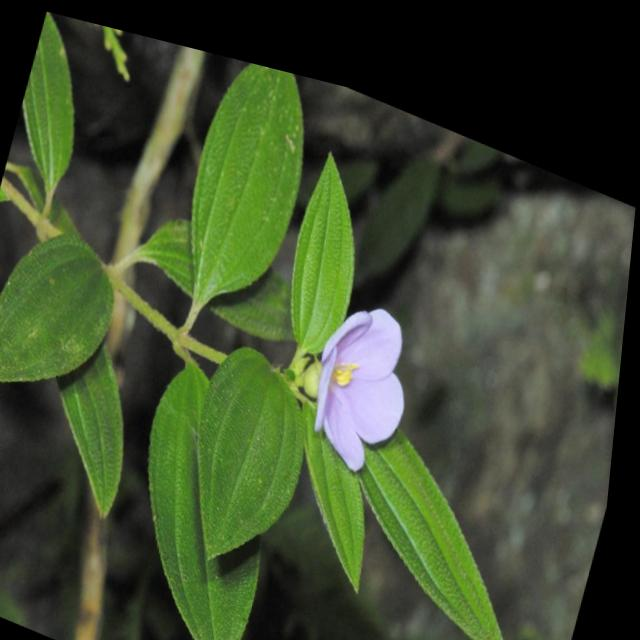Flower: (289, 244, 444, 478)
